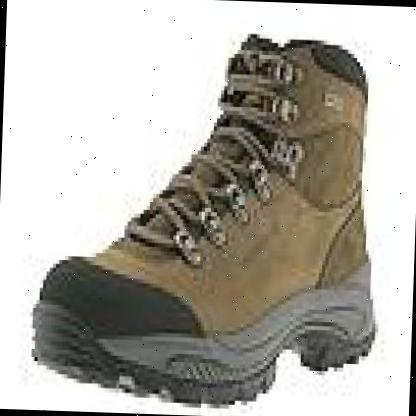bota: (19, 25, 391, 410)
